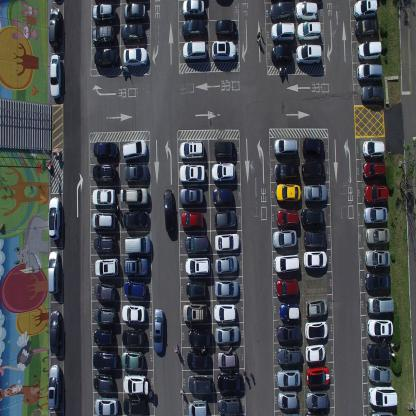car: (368, 384, 397, 406), (48, 363, 61, 412), (210, 39, 236, 63), (121, 138, 148, 161), (295, 42, 322, 65), (182, 40, 207, 64), (94, 46, 119, 70), (48, 195, 61, 241), (124, 234, 152, 255), (163, 188, 176, 233), (123, 45, 148, 68), (276, 342, 302, 364), (178, 186, 204, 208), (274, 182, 300, 204), (217, 372, 243, 394), (179, 139, 205, 161), (362, 183, 389, 204), (366, 295, 394, 315), (152, 308, 164, 354), (49, 308, 61, 354), (91, 23, 115, 46), (274, 252, 299, 274), (270, 21, 295, 43), (214, 231, 240, 252), (123, 373, 149, 394), (123, 209, 149, 230), (356, 62, 382, 83), (296, 20, 322, 41), (48, 6, 61, 48), (182, 302, 209, 322), (187, 374, 214, 394), (364, 248, 391, 268), (48, 249, 60, 294), (50, 54, 62, 99), (213, 207, 236, 230), (212, 161, 236, 183), (306, 388, 330, 410), (95, 256, 119, 278), (362, 160, 386, 182), (92, 162, 116, 184), (276, 367, 301, 388), (302, 249, 327, 270), (276, 323, 301, 344), (357, 40, 382, 61), (354, 17, 379, 38), (269, 0, 294, 21), (181, 18, 206, 39), (93, 349, 119, 369), (364, 272, 390, 292), (92, 212, 118, 232), (179, 164, 205, 184), (183, 234, 209, 254), (123, 256, 149, 276), (124, 186, 150, 206), (351, 0, 378, 19), (302, 136, 324, 159), (214, 18, 237, 40), (306, 364, 330, 385), (368, 362, 392, 383), (92, 186, 116, 207), (294, 0, 318, 21), (367, 318, 392, 338), (272, 228, 297, 248), (214, 324, 239, 344), (185, 255, 210, 275), (186, 349, 211, 369), (273, 138, 298, 158), (124, 164, 149, 184), (93, 140, 118, 160), (120, 24, 145, 44), (91, 2, 116, 22), (273, 162, 299, 181), (362, 137, 384, 159), (94, 280, 116, 302), (94, 235, 118, 255), (214, 254, 238, 274), (122, 303, 146, 323), (123, 279, 147, 299), (360, 84, 384, 104), (123, 2, 147, 22), (94, 396, 119, 415), (121, 349, 144, 369), (303, 229, 326, 249), (305, 319, 328, 339), (181, 210, 204, 230), (301, 160, 324, 180), (366, 342, 390, 361), (213, 302, 237, 321), (188, 328, 212, 347), (303, 184, 327, 203), (123, 396, 147, 415), (121, 328, 145, 347), (214, 278, 239, 296), (275, 278, 300, 296), (365, 226, 390, 244), (363, 206, 388, 224), (305, 342, 325, 364), (213, 140, 235, 160), (270, 43, 292, 63), (94, 306, 117, 325), (275, 209, 298, 228), (300, 207, 323, 226), (216, 396, 240, 414), (278, 390, 299, 410), (212, 186, 233, 206), (279, 301, 300, 321), (92, 372, 113, 392), (304, 298, 327, 316), (186, 279, 207, 298), (182, 0, 204, 18), (94, 328, 115, 346), (187, 398, 208, 416), (217, 349, 237, 367), (369, 408, 395, 416), (305, 410, 328, 415), (278, 411, 300, 415)
